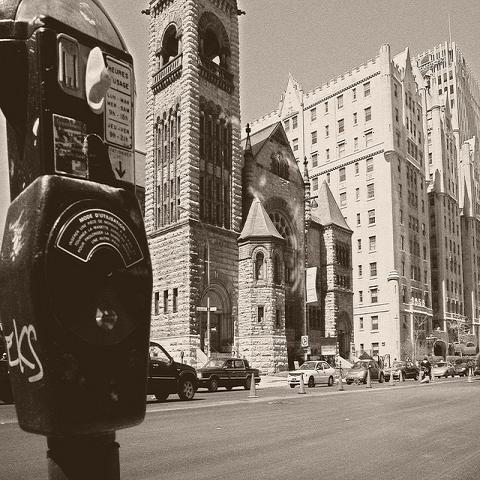car: (147, 342, 200, 402), (196, 357, 262, 392), (287, 360, 336, 388), (346, 359, 386, 384), (384, 360, 420, 382), (432, 361, 456, 378), (454, 358, 469, 377)
